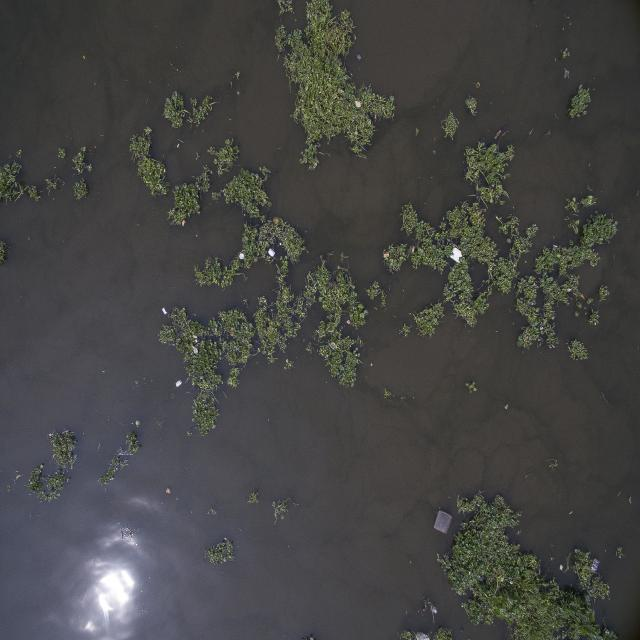plastic: (427, 506, 459, 541), (403, 614, 435, 640), (585, 555, 606, 586), (262, 246, 282, 266), (171, 374, 189, 396), (450, 241, 465, 266), (156, 301, 173, 321), (327, 337, 342, 358), (352, 96, 366, 114), (239, 250, 247, 266), (192, 345, 200, 355)
